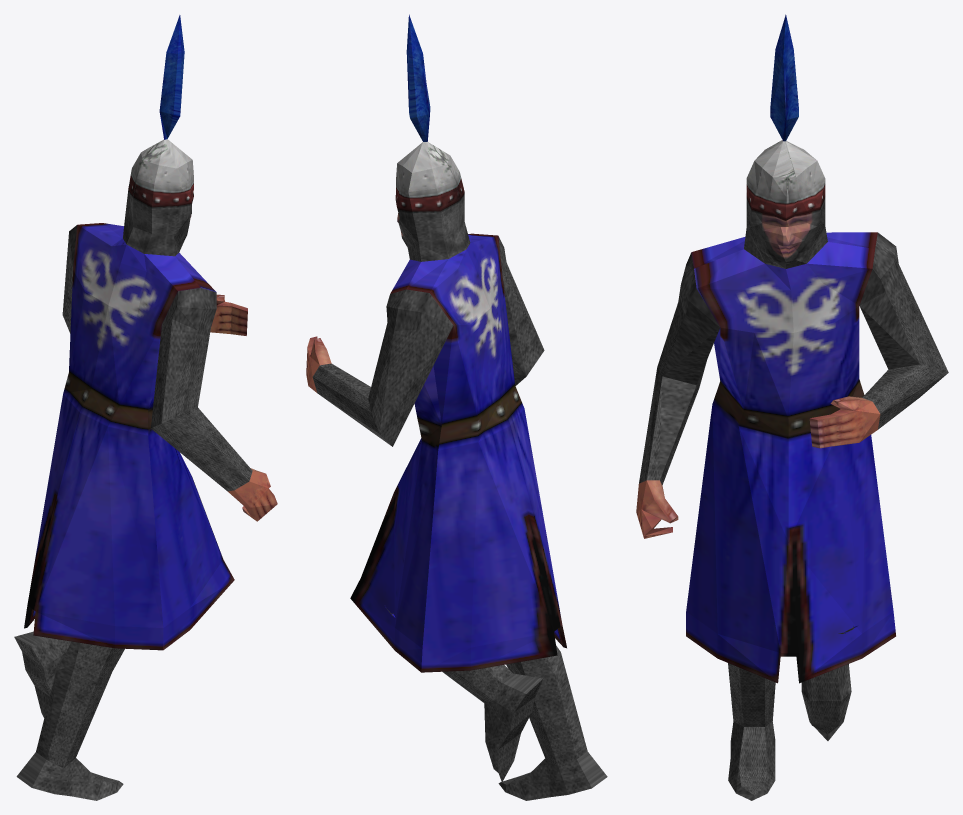
Rendered from guard_run5.obj.
3 views of the same model, side by side, from view 1: azimuth 30°, elevation 25°; view 2: azimuth 150°, elevation 25°; view 3: azimuth 270°, elevation 25° (orthographic). The views are drawn at different scales.
Visible parts, largest first — view 1: Object_1; view 2: Object_1; view 3: Object_1.
Part boxes in pixels (x1,y1,x2,y2): Object_1: (14,15,277,800); Object_1: (306,14,607,800); Object_1: (636,14,948,800).
Size of the model in its own units: 0.7956 by 2.23 by 0.7651.
Materials: 1 (1 with a texture image).
